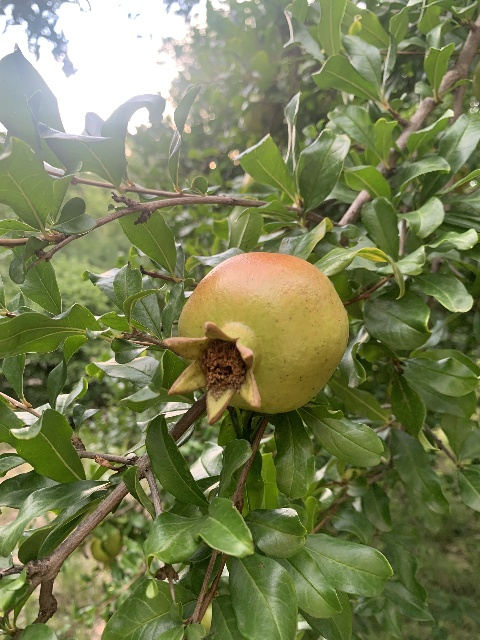mid-growth: (162, 251, 348, 427)
